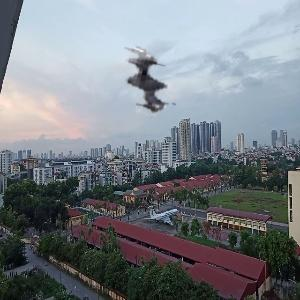drone: (101, 41, 186, 126)
